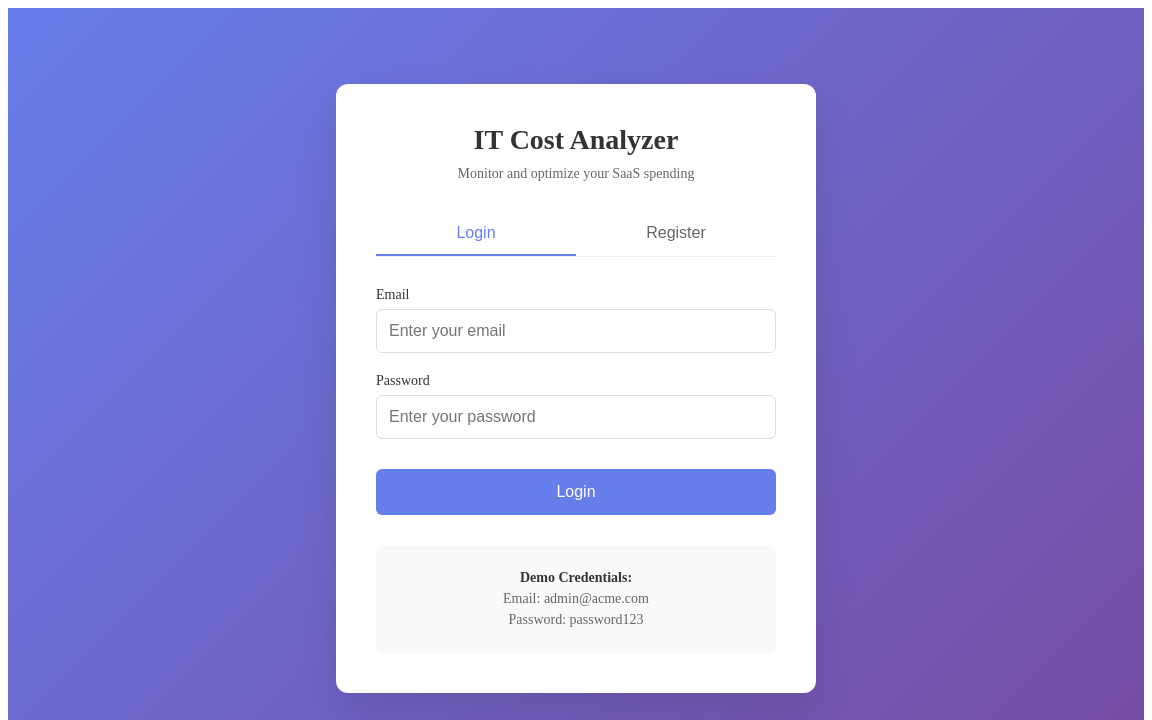
Test: Login Component › should not display demo credentials in register mode
// Switch to register mode
Click the button "Register": (676, 234) [576,212,776,256]
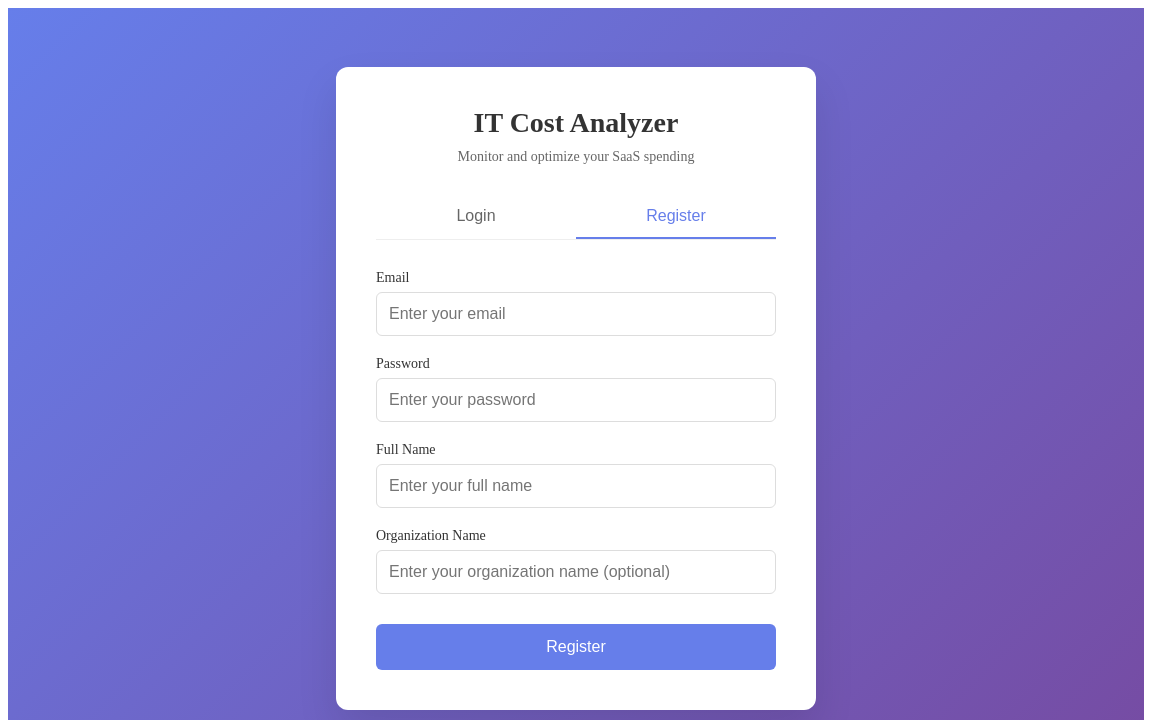
Now the text "Demo Credentials:" is gone
